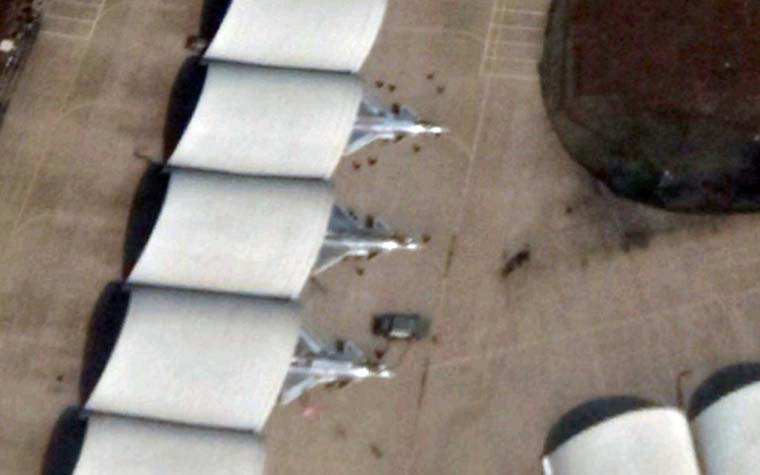J20: (278, 328, 395, 407), (308, 204, 423, 276), (340, 98, 451, 158)
